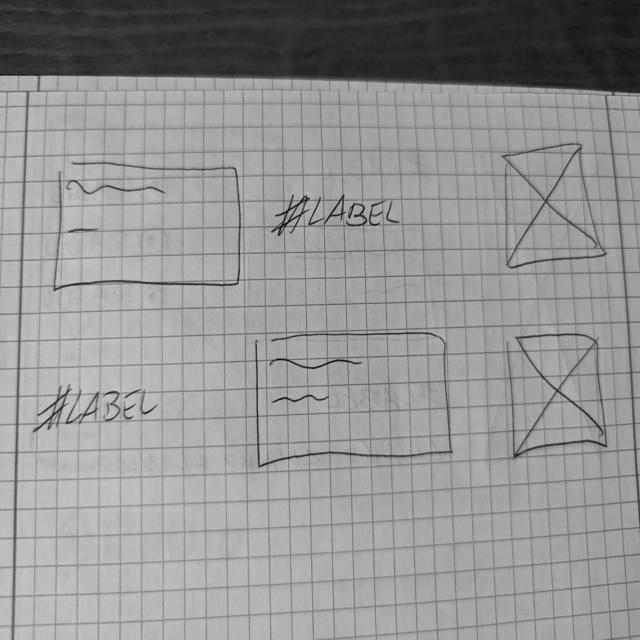image: (504, 143, 610, 272)
label: (34, 379, 161, 436), (273, 192, 402, 242)
textarea: (255, 328, 457, 472), (53, 159, 245, 293)
